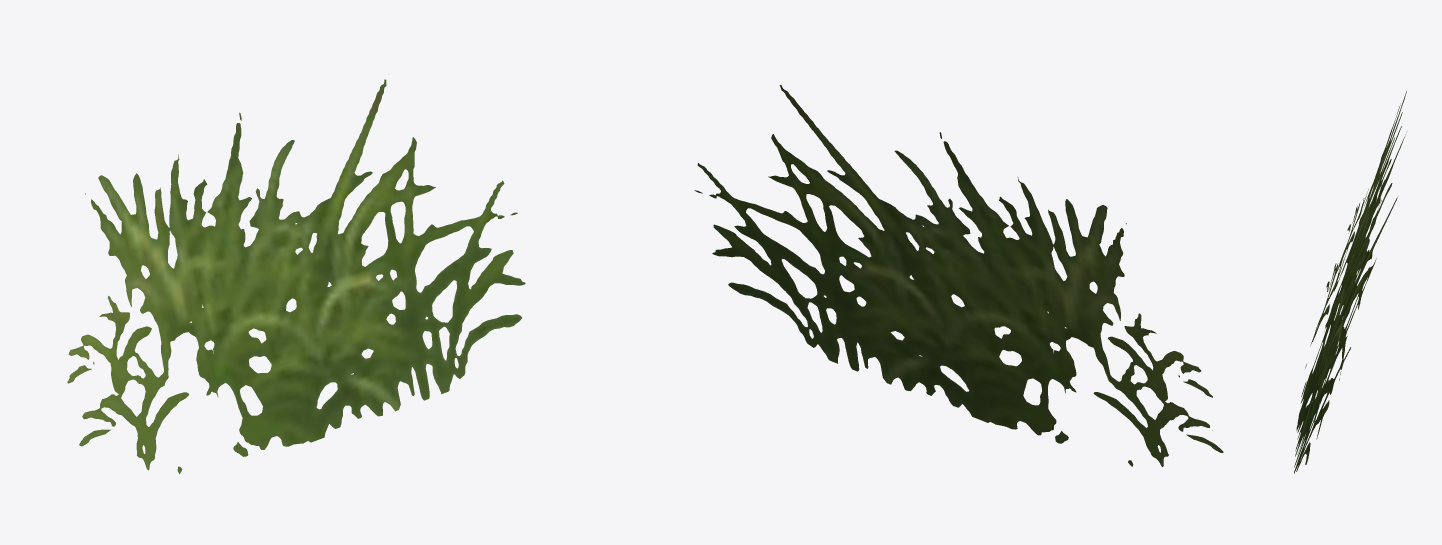
3 views of the same model, side by side, from view 1: azimuth 30°, elevation 25°; view 2: azimuth 150°, elevation 25°; view 3: azimuth 270°, elevation 25° (orthographic). The views are drawn at different scales.
Visible parts, largest first — view 1: Mesh_35; view 2: Mesh_35; view 3: Mesh_35.
Boxes of the visible parts, bbox=[...] form: Mesh_35: bbox=[67, 79, 525, 473]; Mesh_35: bbox=[694, 85, 1223, 466]; Mesh_35: bbox=[1294, 91, 1406, 473].
Bounding box in the file's own units: 0.7644 × 0.4994 × 0.1712.
